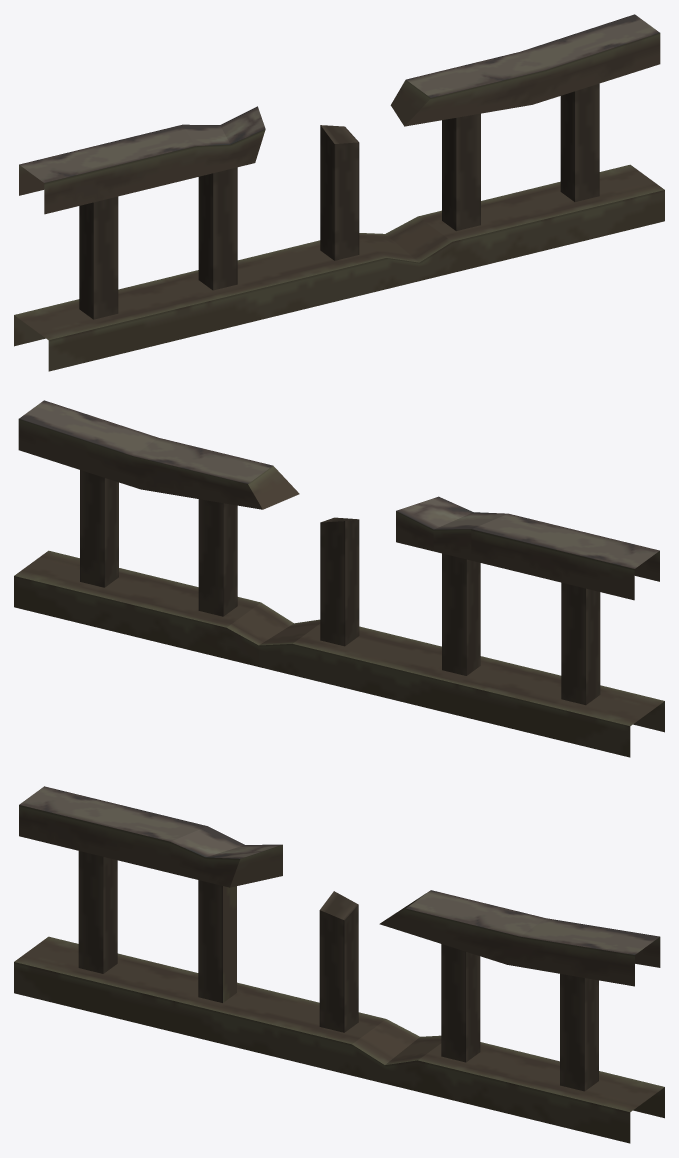
Rendered from RailingLongDemagedModel.fbx.
The picture shows the model from 3 angles, top to bottom: view 1: azimuth 30°, elevation 25°; view 2: azimuth 150°, elevation 25°; view 3: azimuth 330°, elevation 25°; orthographic projection.
Parts seen in each view (by area): view 1: RailingLongModel; view 2: RailingLongModel; view 3: RailingLongModel.
Part boxes in pixels (left/top/right/bottom): RailingLongModel: left=14, top=14, right=664, bottom=371; RailingLongModel: left=14, top=400, right=664, bottom=757; RailingLongModel: left=14, top=786, right=664, bottom=1143.
Size of the model in its own units: 514 by 148 by 50.27.
1 material, 1 textured.
